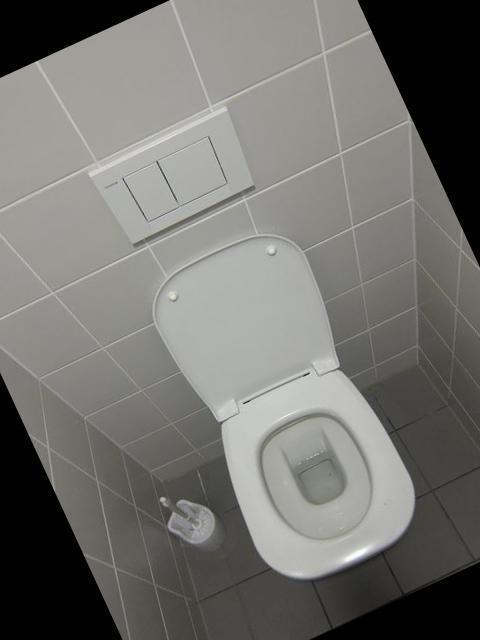Sanitario: (125, 210, 449, 614)
